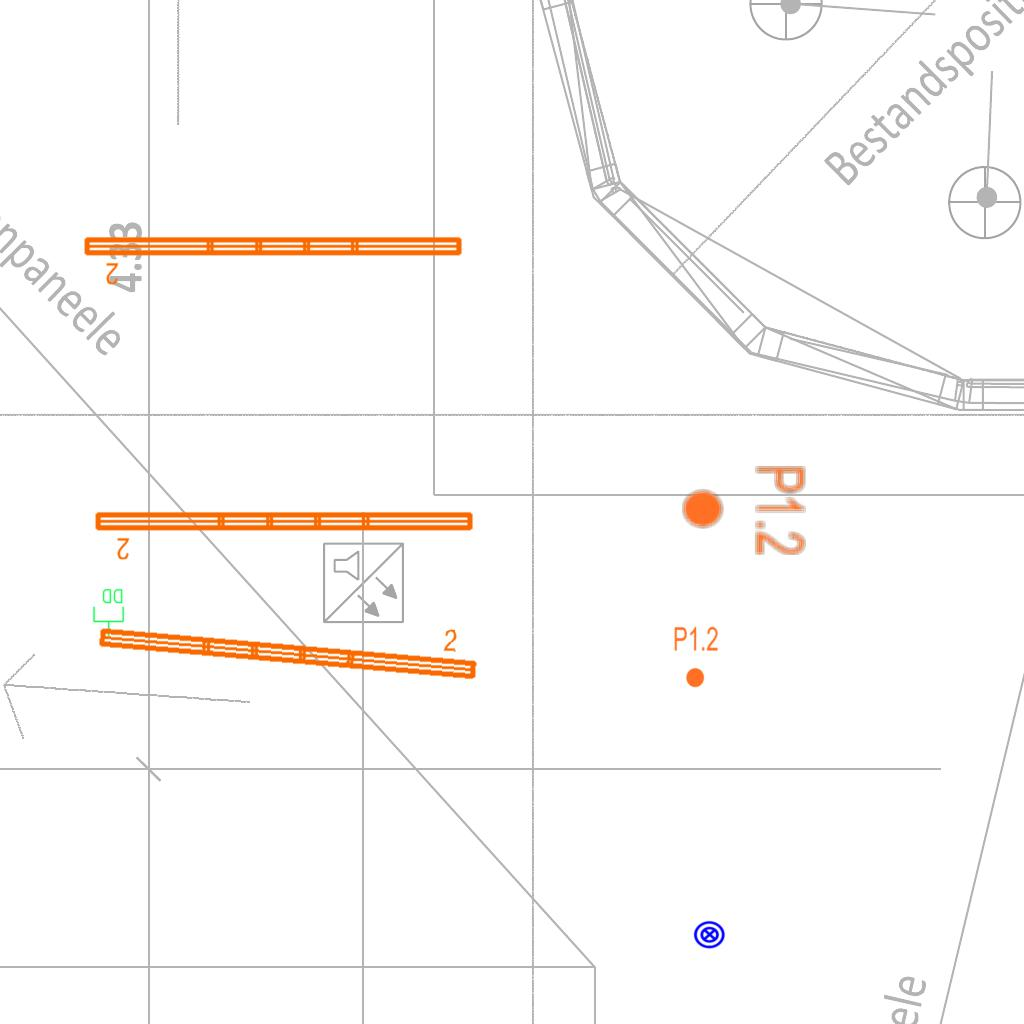Ambulanz_Pendelleuchte_LED: (93, 596, 484, 686), (91, 506, 478, 562), (80, 231, 467, 287)
Datenanschluss_zweifach: (92, 587, 126, 638)
Downlight_LED_Einbauleuchten_Flur: (680, 464, 808, 557), (673, 625, 719, 689)
Taster_beleuchtet: (693, 918, 726, 951)
